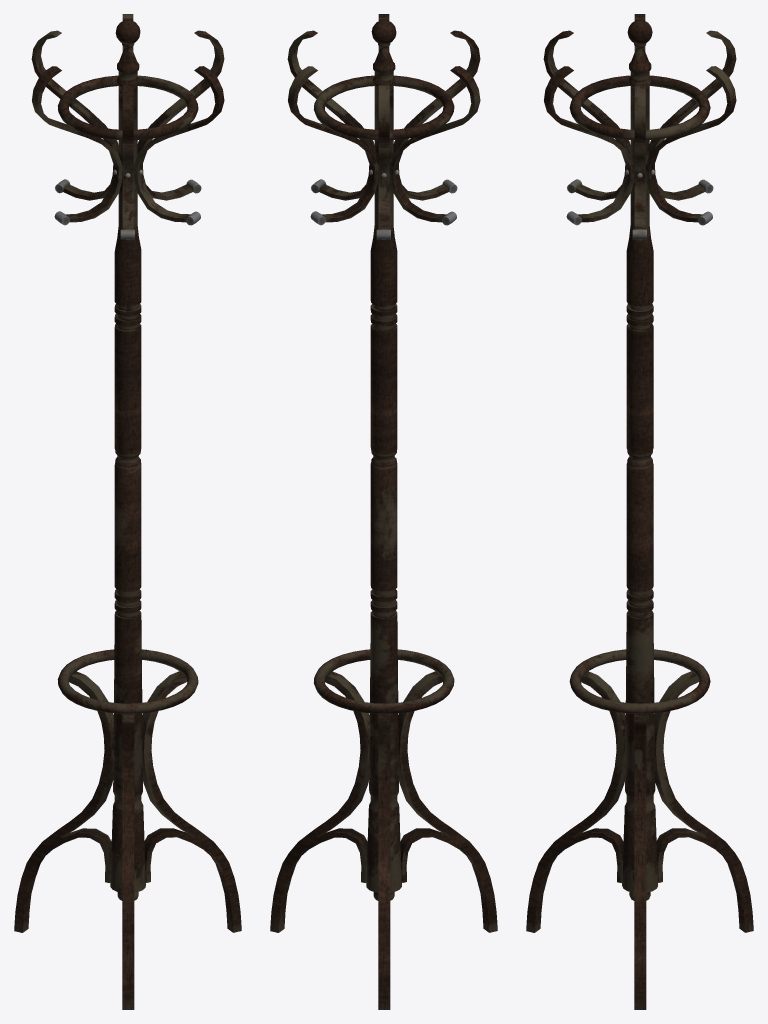
3 renders of one model, left to right at view 1: azimuth 30°, elevation 25°; view 2: azimuth 150°, elevation 25°; view 3: azimuth 270°, elevation 25°, orthographic.
Visible parts, largest first — view 1: Beam, Legs, Hangers; view 2: Beam, Legs, Hangers; view 3: Beam, Legs, Hangers.
Boxes of the visible parts, box(x1,y1,x2,y2) form: Beam: box(57, 20, 198, 900); Legs: box(14, 671, 241, 1009); Hangers: box(31, 14, 224, 239); Beam: box(313, 20, 454, 900); Legs: box(270, 671, 497, 1009); Hangers: box(287, 14, 480, 239); Beam: box(569, 20, 710, 900); Legs: box(526, 671, 753, 1009); Hangers: box(543, 14, 736, 239).
Size of the model in its own units: 40.87 by 179 by 39.41.
1 material, 1 textured.
